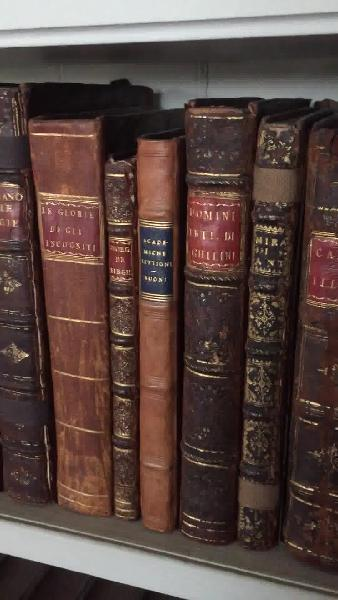Aa6-33: (25, 115, 117, 517)
Aa6-34: (100, 157, 142, 527)
Aa6-35: (131, 132, 182, 535)
Aa6-36: (182, 98, 253, 547)
Aa6-37: (229, 113, 308, 548)
